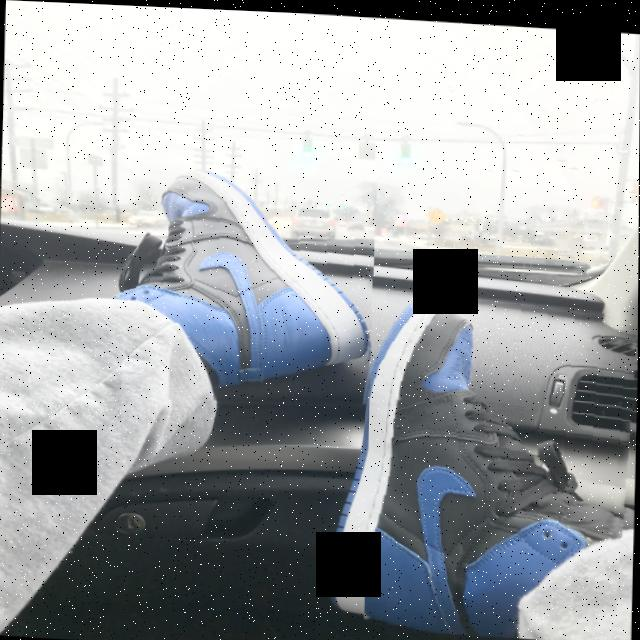shoe: (364, 285, 638, 638), (121, 165, 377, 411)
